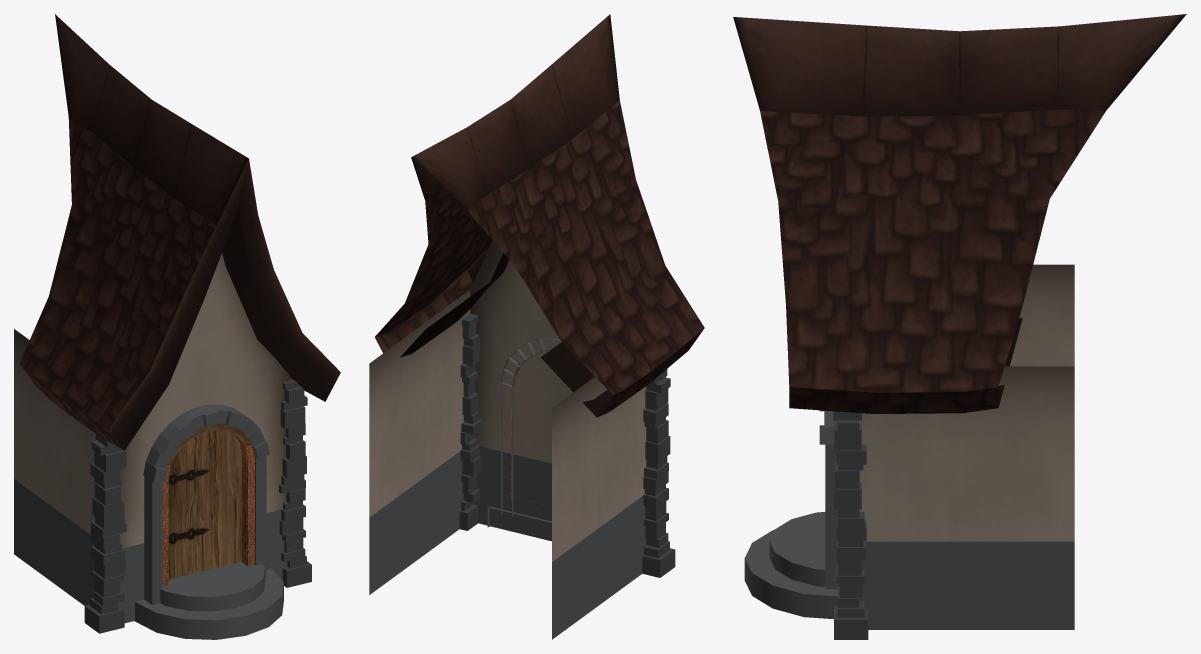
File: fanasty_mod_entrance_door02.fbx
The picture shows the model from 3 angles, left to right: view 1: azimuth 30°, elevation 25°; view 2: azimuth 150°, elevation 25°; view 3: azimuth 270°, elevation 25°; orthographic projection. The views are drawn at different scales.
Parts seen in each view (by area): view 1: entrance_door_02; view 2: entrance_door_02; view 3: entrance_door_02.
Boxes of the visible parts, x1,y1,x2,y2 form: entrance_door_02: (14, 14, 340, 639); entrance_door_02: (369, 14, 704, 639); entrance_door_02: (733, 14, 1186, 639).
Bounding box in the file's own units: 3.5 × 6.97 × 5.07.
